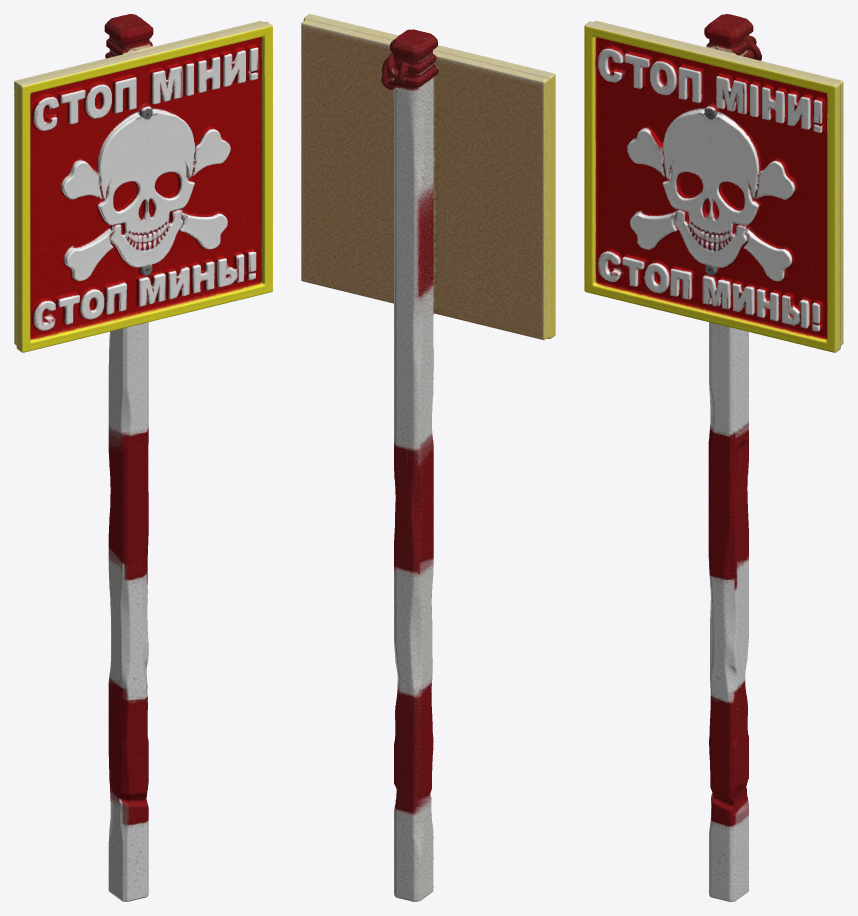
File: landmine_sign.glb
3 renders of one model, left to right at view 1: azimuth 30°, elevation 25°; view 2: azimuth 150°, elevation 25°; view 3: azimuth 330°, elevation 25°, orthographic.
Visible parts, largest first — view 1: mesh_node; view 2: mesh_node; view 3: mesh_node.
Part boxes in pixels (x1=…): mesh_node: x1=14, y1=14, x2=272, y2=901; mesh_node: x1=301, y1=14, x2=555, y2=901; mesh_node: x1=584, y1=14, x2=843, y2=901.
Bounding box in the file's own units: 0.5747 × 1.9 × 0.1301.
1 material, 1 textured.
